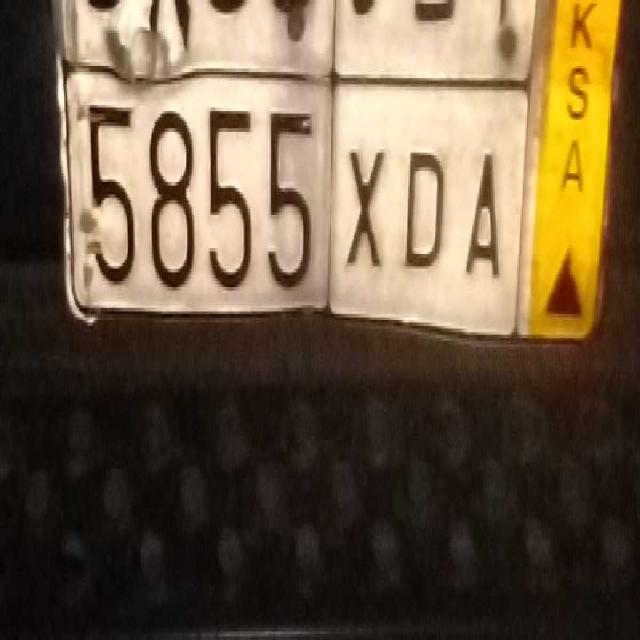license_plate: (68, 69, 510, 332)
